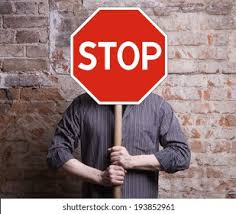stop sign: (67, 7, 167, 105)
